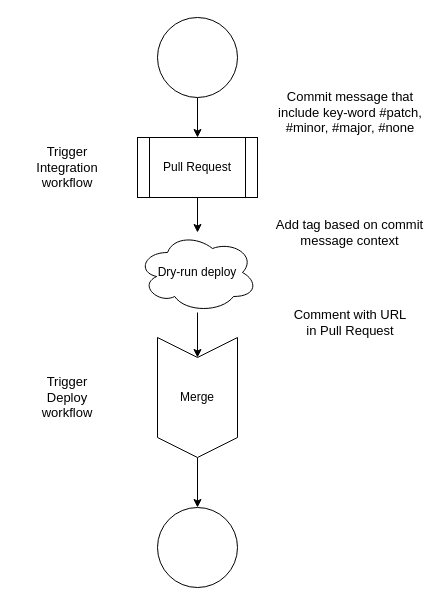
This 446x605 diagram has some shape labels left out. Each missing label, with the box of its shape:
Master: (156, 506, 238, 588)
Release Branch: (156, 16, 238, 98)
